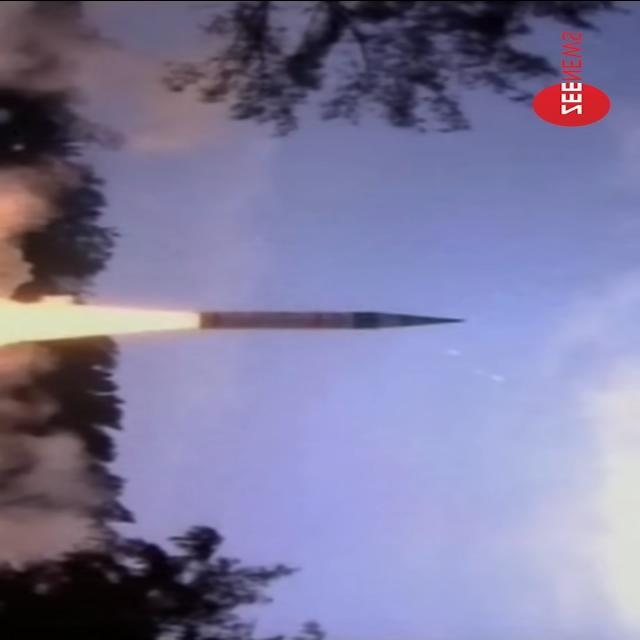Missile: (190, 304, 487, 334)
